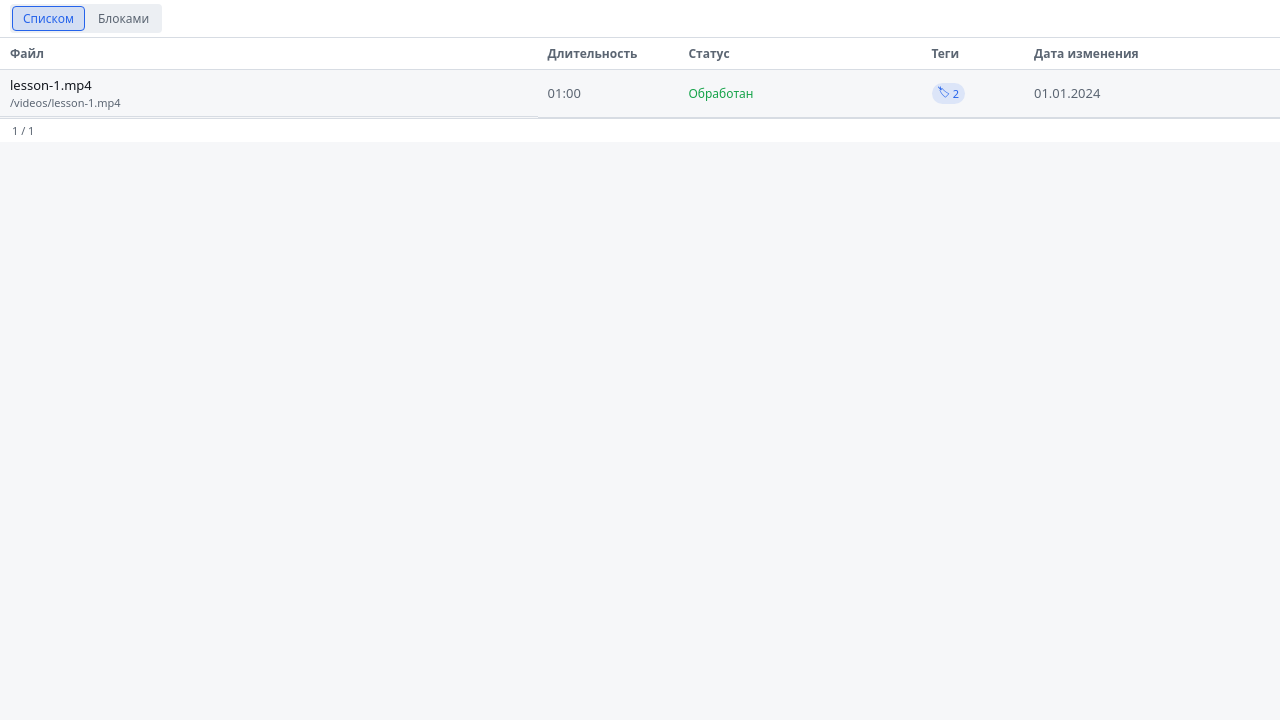
it: FileList › «Выбрать другую папку…» открывает диалог выбора папки
Right-click the text "lesson-1.mp4" at (640, 93), box [0,70,1279,117]
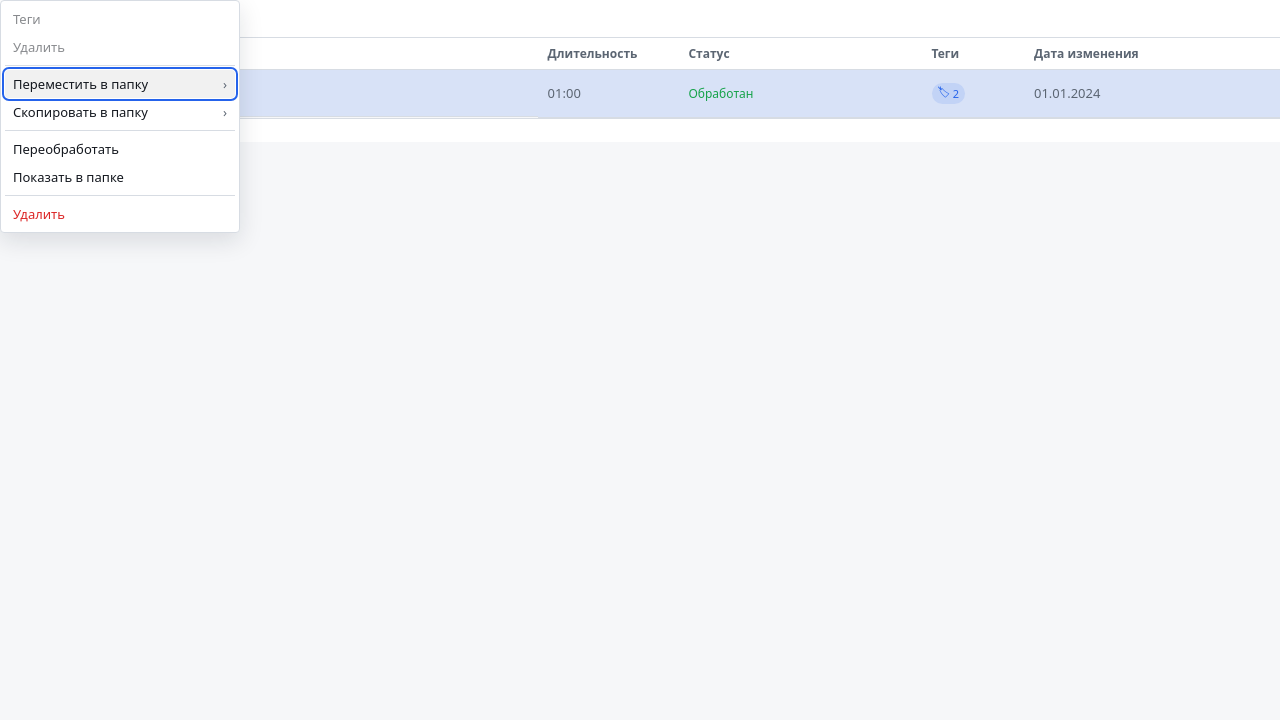
Hover over the menu item "Переместить в папку ›" at (120, 84), box [5,70,235,98]
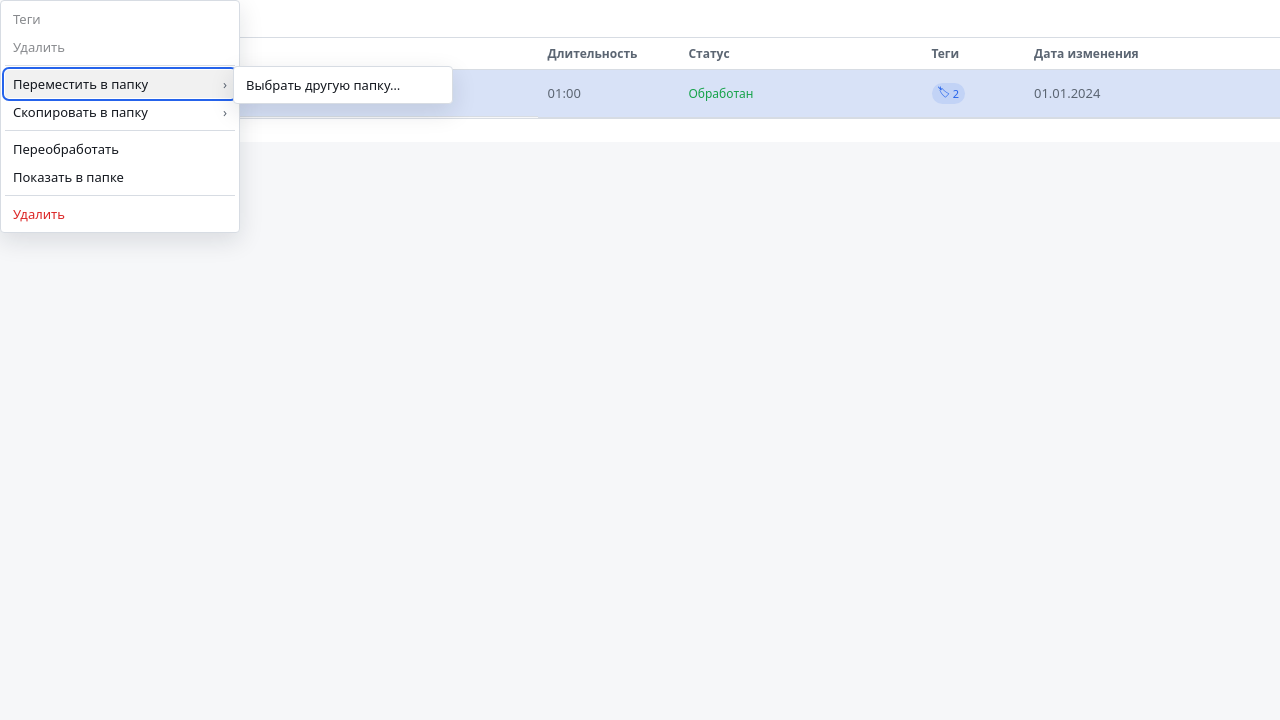
Click the menu item "Выбрать другую папку…". click: (343, 85)
box: [238,71,448,99]
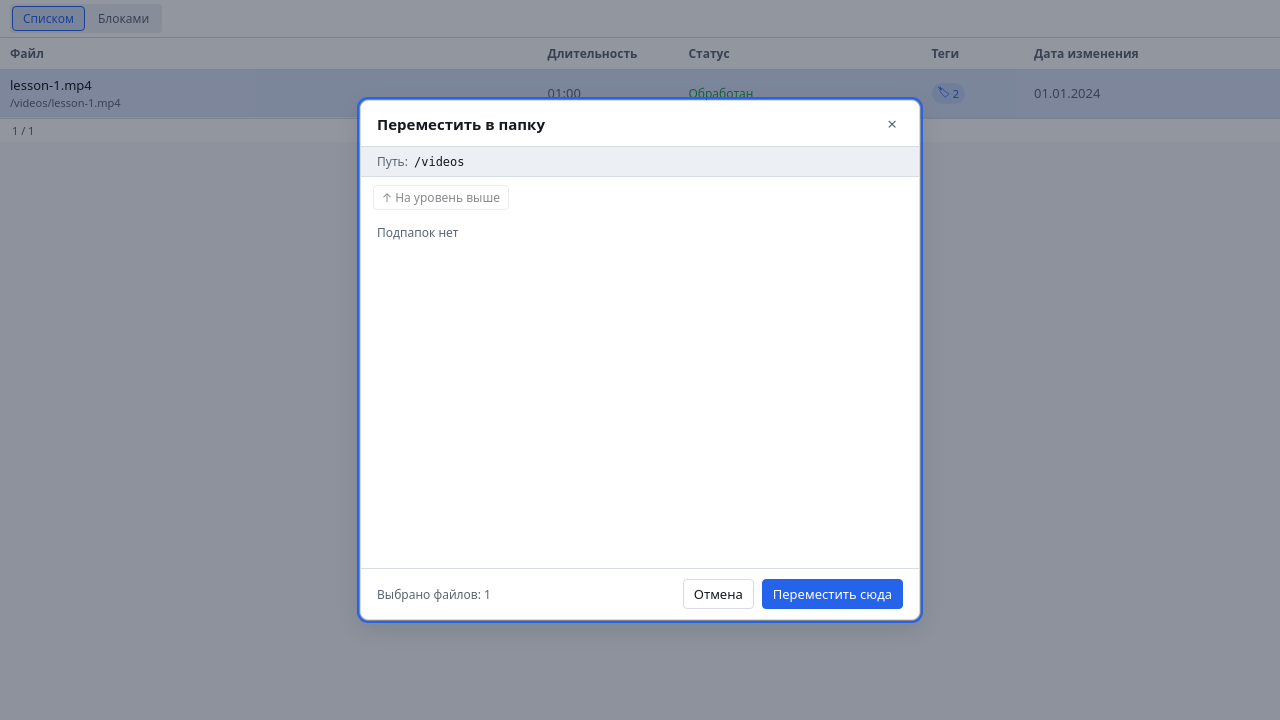
Expected: the heading "Переместить в папку" is shown, [377,114,545,134]
Click the button "Отмена". click: (718, 594)
box: [683,579,754,609]
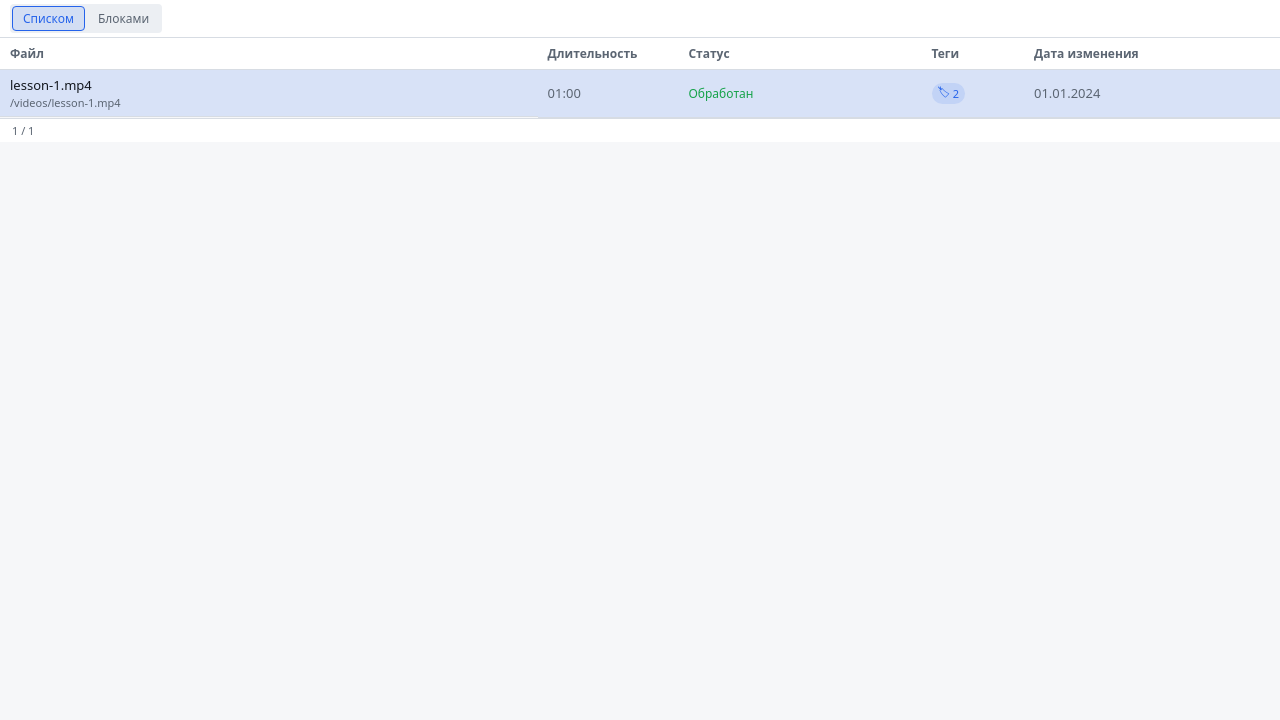
Expected: the dialog is gone
